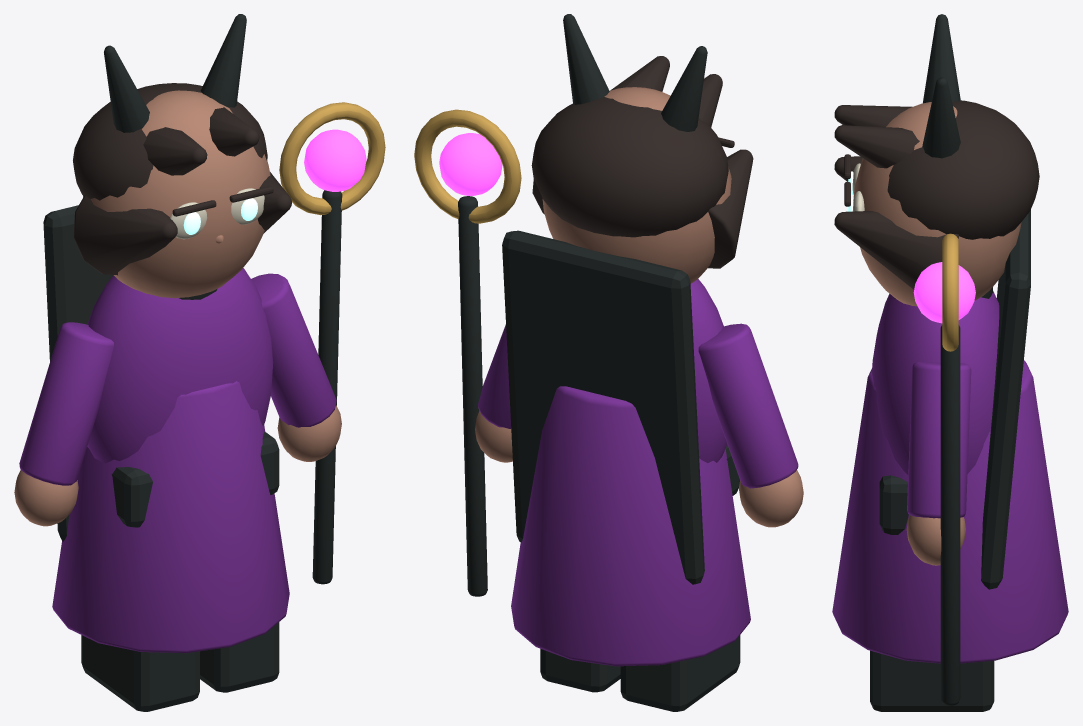
The model's file is hero-warlock.glb.
3 views of the same model, side by side, from view 1: azimuth 30°, elevation 25°; view 2: azimuth 150°, elevation 25°; view 3: azimuth 270°, elevation 25° (orthographic). The views are drawn at different scales.
Visible parts, largest first — view 1: warlock_Coat, warlock_Torso, warlock_Head, warlock_ArmL, warlock_ArmR, warlock_HairCap, warlock_Staff, warlock_Boot, warlock_Cape, warlock_HairLock, warlock_StaffCrown, warlock_Boot.001 (+9 smaller); view 2: warlock_Coat, warlock_Cape, warlock_HairCap, warlock_ArmL, warlock_Staff, warlock_Head, warlock_Boot, warlock_StaffCrown, warlock_Torso, warlock_Void, warlock_HairLock, warlock_HandL (+7 smaller); view 3: warlock_Coat, warlock_HairCap, warlock_Torso, warlock_Cape, warlock_Staff, warlock_Head, warlock_ArmR, warlock_Boot.001, warlock_HairLock.001, warlock_HairLock.003, warlock_Void, warlock_Horn.001 (+5 smaller).
Boxes of the visible parts, left/top/right/bottom form: warlock_Coat: left=52, top=381, right=289, bottom=653; warlock_Torso: left=87, top=268, right=273, bottom=463; warlock_Head: left=83, top=90, right=270, bottom=298; warlock_ArmL: left=19, top=322, right=113, bottom=485; warlock_ArmR: left=251, top=273, right=336, bottom=427; warlock_HairCap: left=73, top=83, right=267, bottom=200; warlock_Staff: left=312, top=190, right=342, bottom=584; warlock_Boot: left=81, top=635, right=199, bottom=711; warlock_Cape: left=43, top=205, right=113, bottom=541; warlock_HairLock: left=73, top=195, right=177, bottom=275; warlock_StaffCrown: left=279, top=102, right=385, bottom=215; warlock_Boot.001: left=200, top=622, right=279, bottom=692; warlock_Coat: left=511, top=386, right=750, bottom=666; warlock_Cape: left=502, top=230, right=704, bottom=584; warlock_HairCap: left=531, top=97, right=728, bottom=237; warlock_ArmL: left=698, top=323, right=798, bottom=488; warlock_Staff: left=458, top=196, right=487, bottom=596; warlock_Head: left=542, top=87, right=731, bottom=283; warlock_Boot: left=620, top=635, right=740, bottom=711; warlock_StaffCrown: left=414, top=109, right=521, bottom=223; warlock_Torso: left=690, top=279, right=727, bottom=462; warlock_Void: left=439, top=133, right=502, bottom=195; warlock_HairLock: left=707, top=149, right=753, bottom=268; warlock_HandL: left=739, top=470, right=803, bottom=527; warlock_Coat: left=832, top=360, right=1068, bottom=663; warlock_HairCap: left=887, top=100, right=1039, bottom=239; warlock_Torso: left=872, top=291, right=999, bottom=474; warlock_Cape: left=981, top=210, right=1030, bottom=589; warlock_Staff: left=940, top=325, right=960, bottom=705; warlock_Head: left=853, top=102, right=1021, bottom=306; warlock_ArmR: left=907, top=361, right=971, bottom=518; warlock_Boot.001: left=870, top=650, right=994, bottom=711; warlock_HairLock.001: left=834, top=211, right=958, bottom=289; warlock_HairLock.003: left=834, top=125, right=919, bottom=168; warlock_Void: left=913, top=262, right=975, bottom=323; warlock_Horn.001: left=922, top=77, right=960, bottom=158.
Size of the model in its own units: 1.5 by 2.48 by 0.8351.
